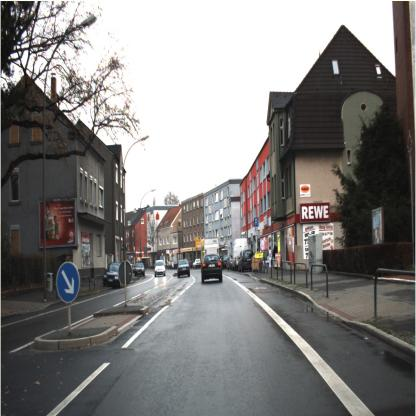keep right: (56, 262, 80, 302)
